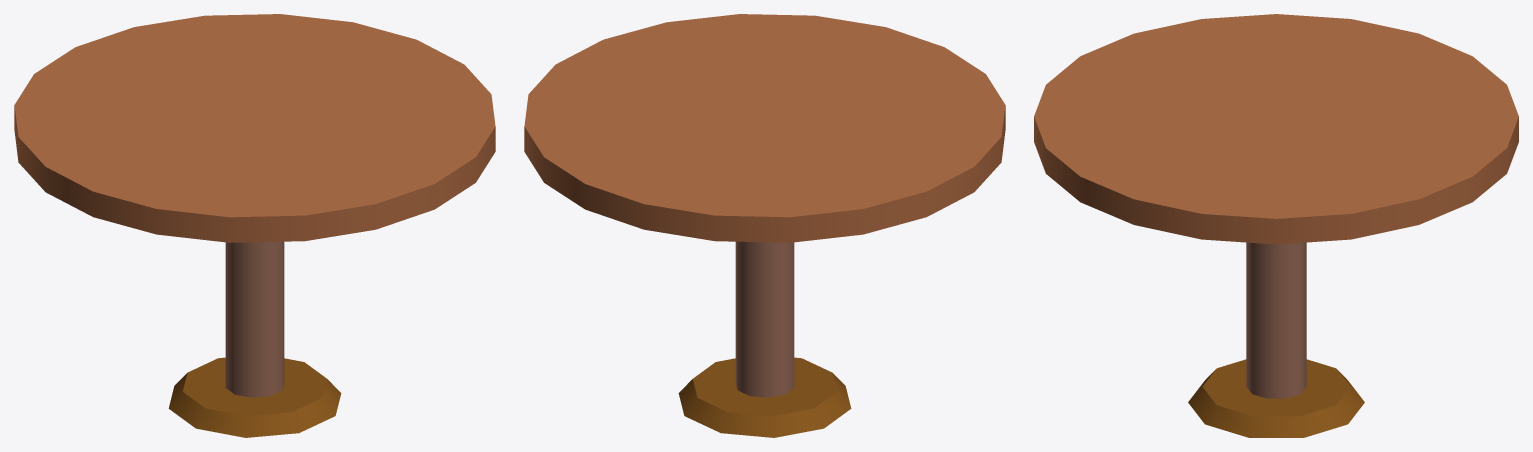
File: coffe_table_01.fbx
The picture shows the model from 3 angles, left to right: view 1: azimuth 30°, elevation 25°; view 2: azimuth 150°, elevation 25°; view 3: azimuth 270°, elevation 25°; orthographic projection.
Visible parts, largest first — view 1: coffe_table_01; view 2: coffe_table_01; view 3: coffe_table_01.
Part boxes in pixels (<box>): coffe_table_01: <box>14,14,495,437</box>; coffe_table_01: <box>524,14,1005,437</box>; coffe_table_01: <box>1034,14,1518,437</box>.
Size of the model in its own units: 1.2 by 0.7808 by 1.2.
